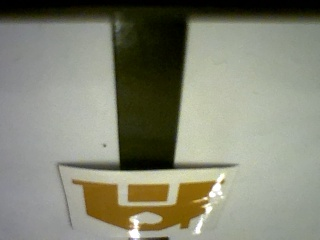Rescue_Station: (71, 178, 225, 233)
